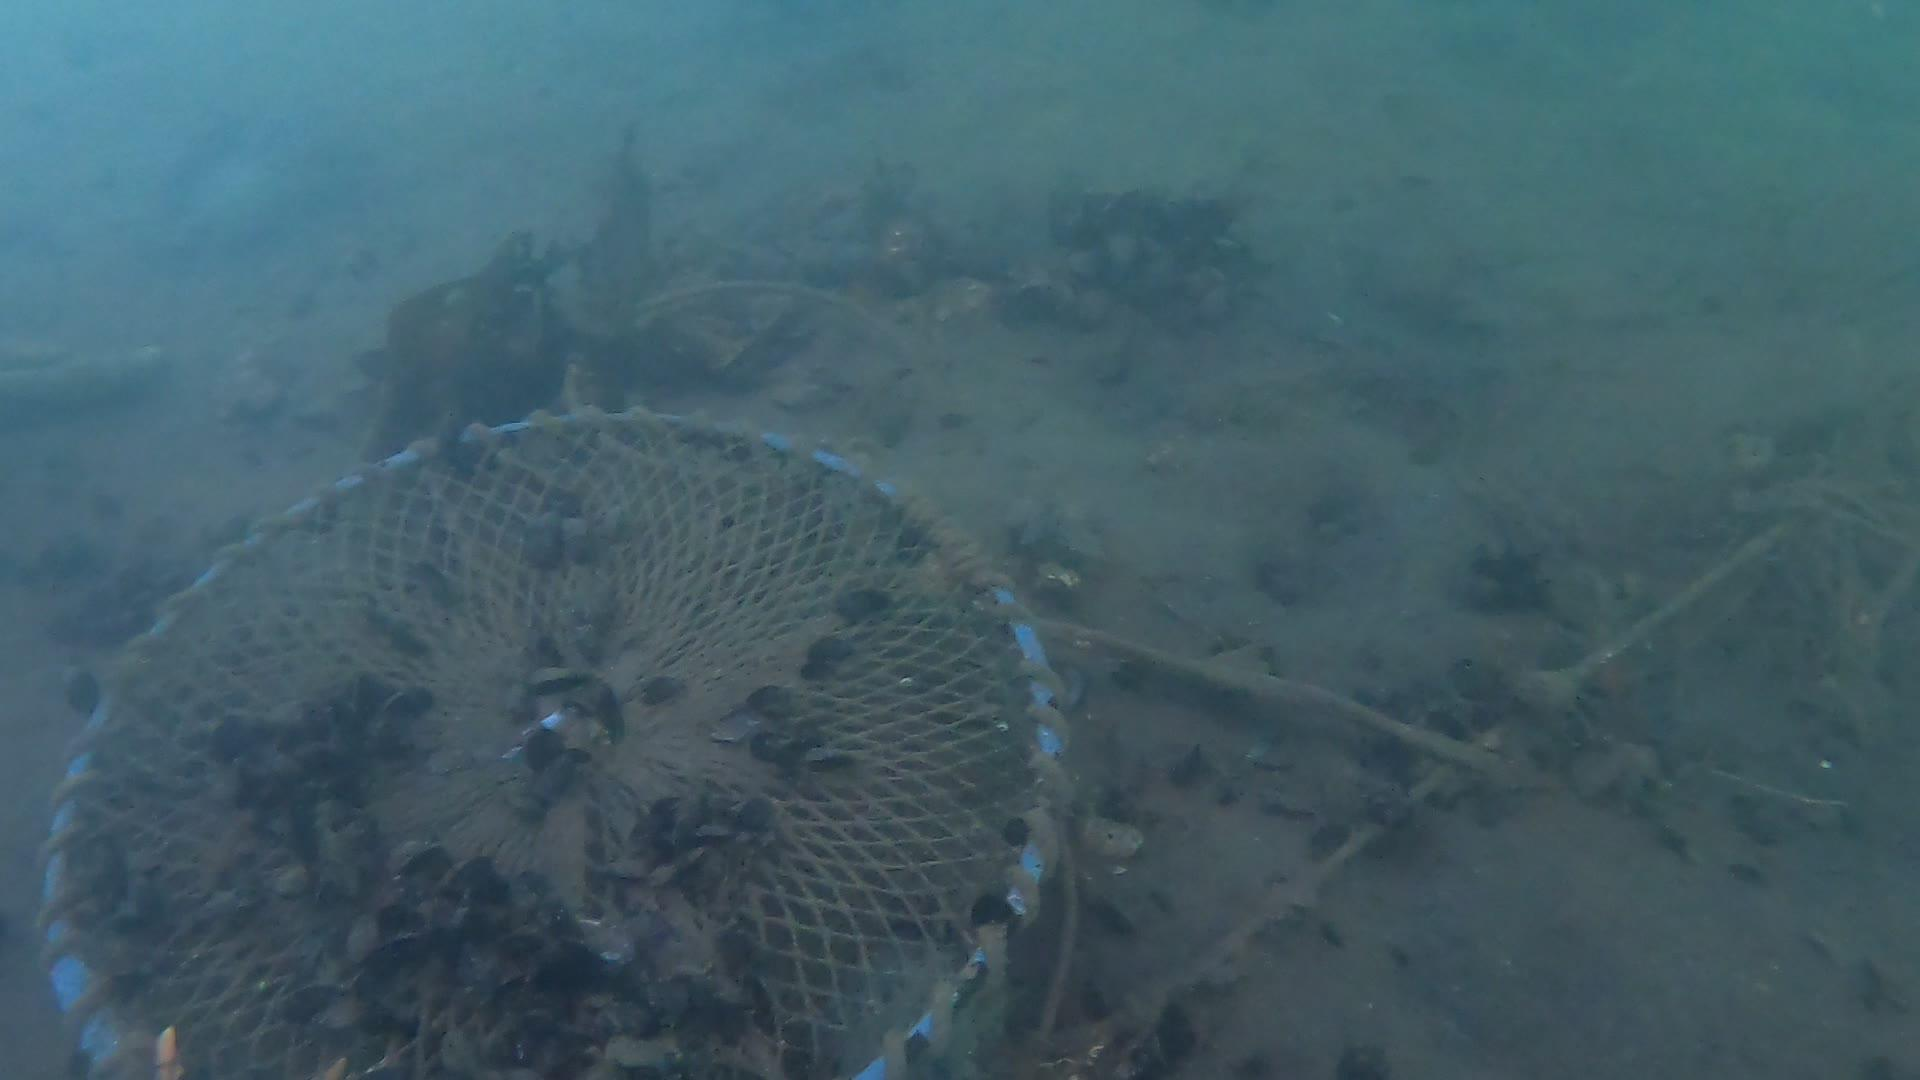circular fish trap: (30, 413, 1077, 1080)
